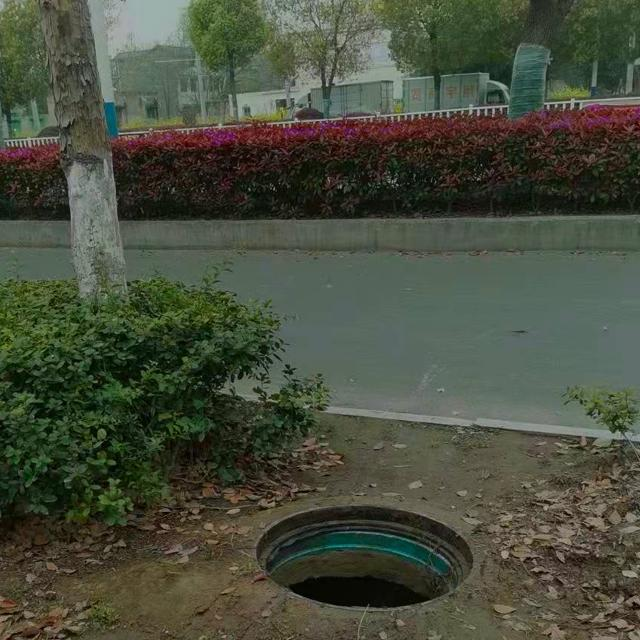lose: (244, 493, 490, 615)
